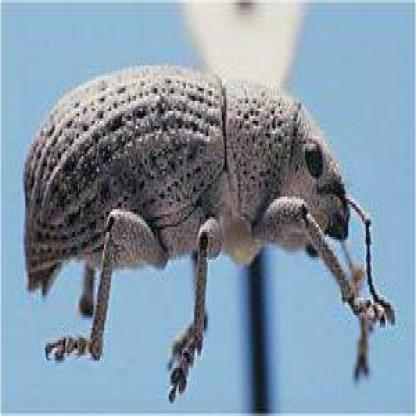ash weevil: (20, 63, 397, 407)
